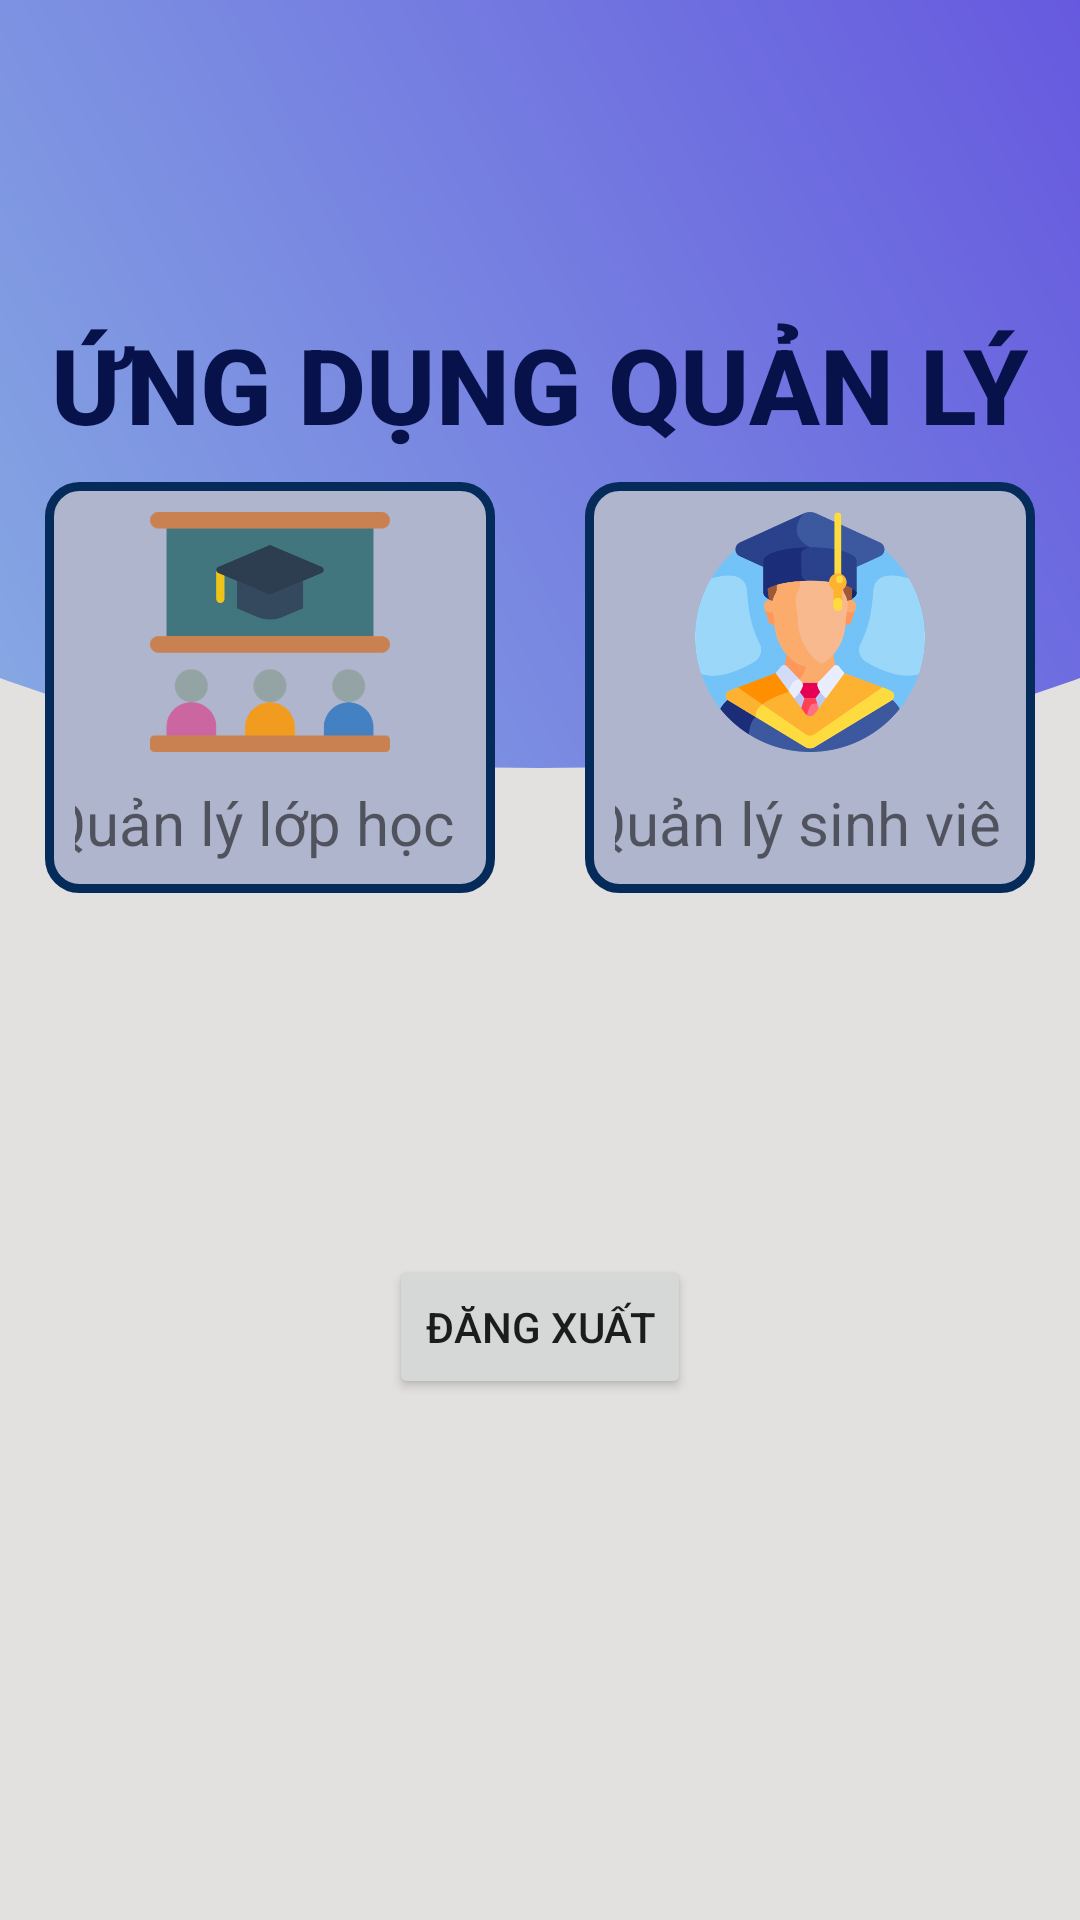

Icons on this 1080px×1920px Android screen, each with its box as (x1, y1, x2, y2):
graduate: (695, 512, 925, 752)
presentation: (150, 512, 390, 752)
